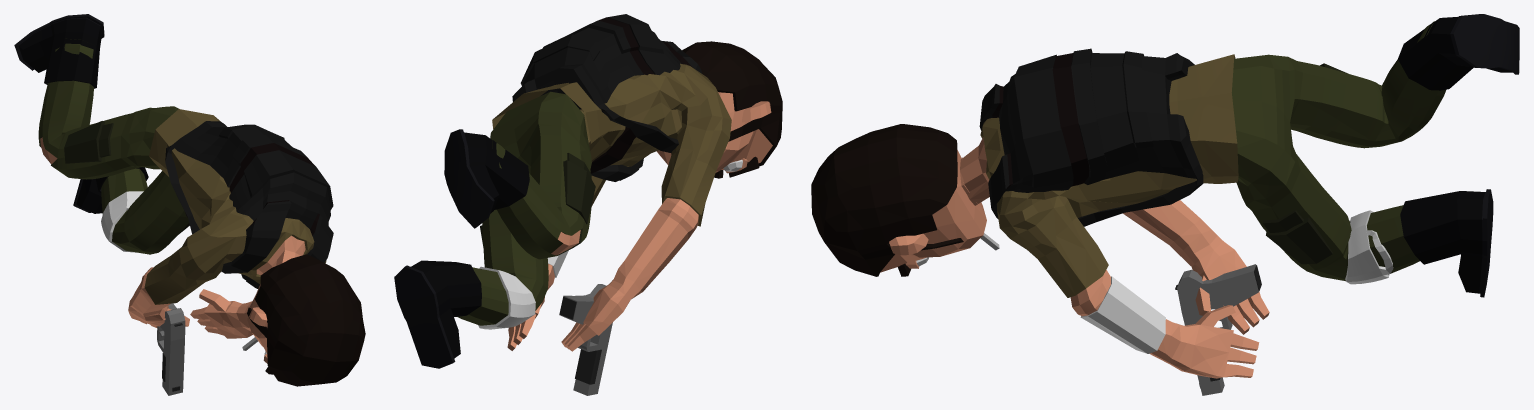
The model's file is frame_0044.obj.
3 views of the same model, side by side, from view 1: azimuth 30°, elevation 25°; view 2: azimuth 150°, elevation 25°; view 3: azimuth 270°, elevation 25° (orthographic). The views are drawn at different scales.
Parts seen in each view (by area): view 1: Body, Gun; view 2: Body, Gun; view 3: Body, Gun.
Part boxes in pixels (x1=…): Body: x1=14, y1=14, x2=365, y2=386; Gun: x1=157, y1=303, x2=185, y2=395; Body: x1=394, y1=14, x2=782, y2=368; Gun: x1=559, y1=284, x2=612, y2=395; Body: x1=811, y1=14, x2=1519, y2=378; Gun: x1=1175, y1=264, x2=1261, y2=395.
Size of the model in its own units: 1.25 by 2.29 by 3.8.
